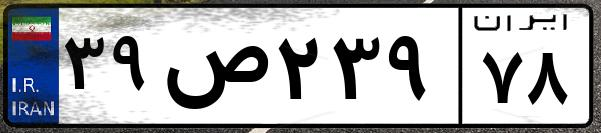2: (270, 28, 330, 110)
3: (330, 28, 385, 110), (57, 26, 110, 100)
7: (475, 38, 525, 113)
8: (525, 38, 570, 115)
9: (385, 28, 445, 110), (110, 28, 158, 98)
ص: (158, 20, 270, 120)
